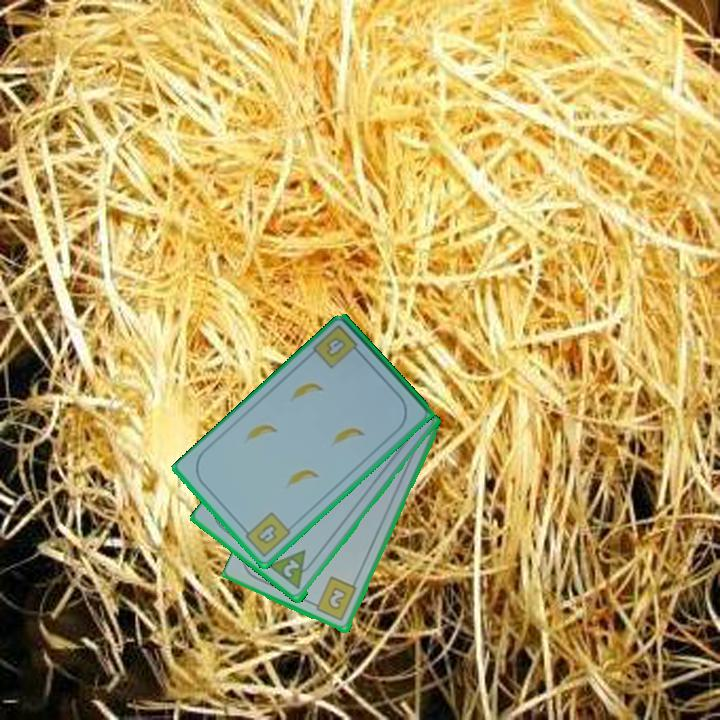2b: (308, 574, 360, 624)
2p: (266, 547, 319, 593)
4b: (239, 508, 294, 560), (310, 321, 365, 372)
